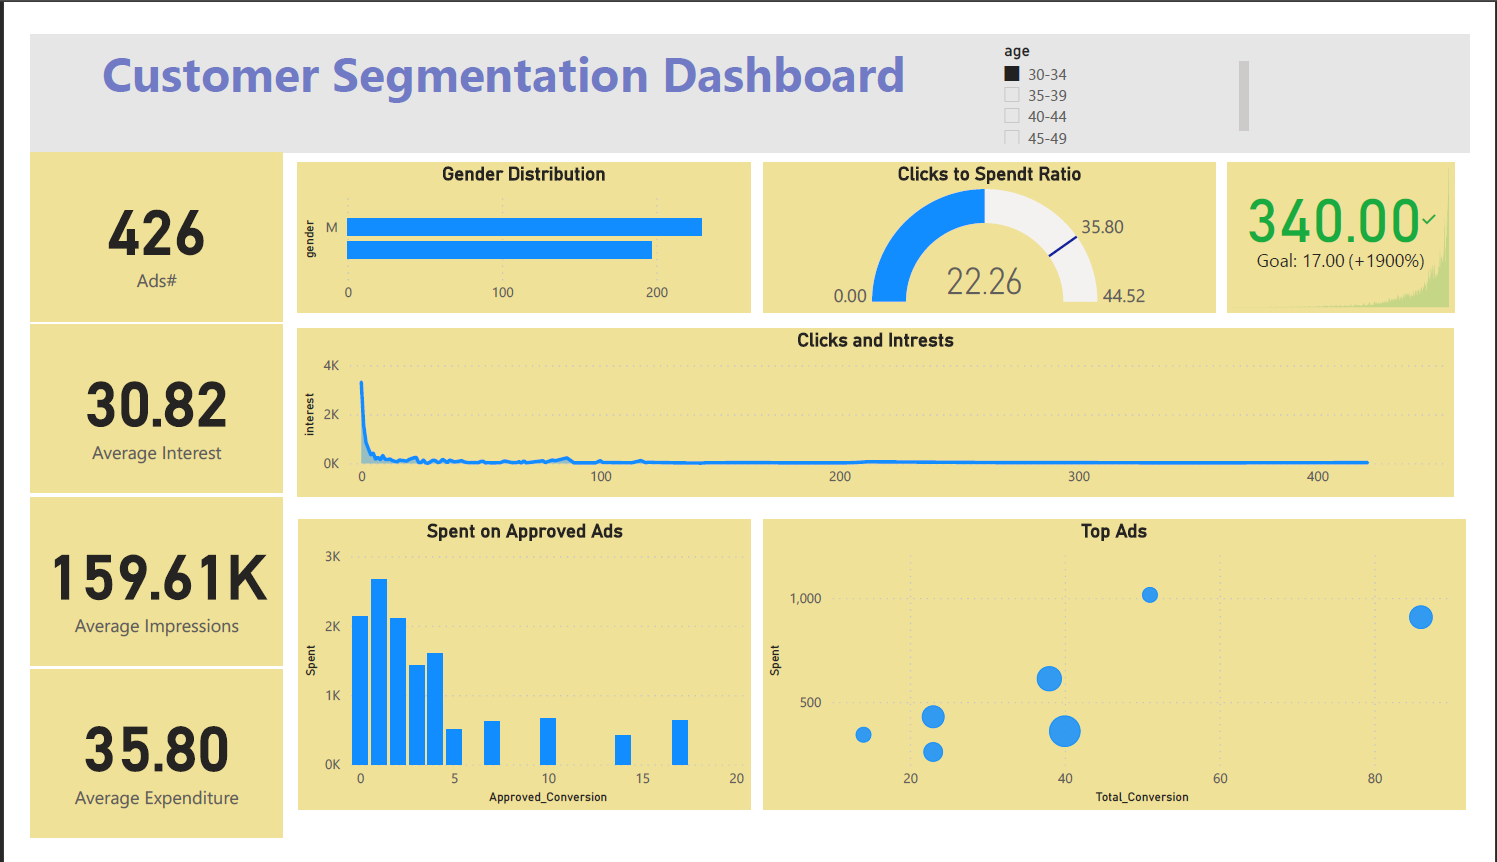

This screenshot's page, from the dashboard's own definition file:
{"tool":"powerbi","page":{"name":"Page 1","canvas":[1280,720],"ordinal":0},"visuals":[{"type":"textbox","box":[0,4.9,1279.9,105.1],"z":0},{"type":"slicer","fields":{"Values":["KAG_conversion_data.age"]},"box":[853.2,6.1,234.7,101.5],"z":1},{"type":"card","fields":{"Values":["CountNonNull(KAG_conversion_data.fb_campaign_id)"]},"box":[0,110,223.7,150.4],"z":2},{"type":"card","fields":{"Values":["Avg(KAG_conversion_data.interest)"]},"box":[0,263.2,223.7,150.4],"z":3},{"type":"card","fields":{"Values":["Avg(KAG_conversion_data.Impressions)"]},"box":[0,416.4,223.7,150.4],"z":4},{"type":"card","fields":{"Values":["Avg(KAG_conversion_data.Spent)"]},"box":[0,569.6,223.7,150.4],"z":5},{"type":"barChart","title":"Gender Distribution","fields":{"Y":["CountNonNull(KAG_conversion_data.age)"],"Category":["KAG_conversion_data.gender"]},"box":[237.1,118.6,403.4,134.5],"z":6},{"type":"gauge","title":"Clicks to Spendt Ratio","fields":{"Y":["Avg(KAG_conversion_data.Clicks)"],"TargetValue":["Avg(KAG_conversion_data.Spent)"]},"box":[651.5,118.6,403.4,134.5],"z":7},{"type":"kpi","fields":{"Goal":["Avg(KAG_conversion_data.Approved_Conversion)"],"Indicator":["Avg(KAG_conversion_data.Clicks)"],"TrendLine":["KAG_conversion_data.Impressions"]},"box":[1064.7,118.6,201.7,134.5],"z":8},{"type":"areaChart","title":"Clicks and Intrests","fields":{"Y":["Sum(KAG_conversion_data.interest)"],"Category":["KAG_conversion_data.Clicks"]},"box":[237.1,266.5,1029.3,150.4],"z":10},{"type":"clusteredColumnChart","title":"Spent on Approved Ads","fields":{"Category":["KAG_conversion_data.Approved_Conversion"],"Y":["Sum(KAG_conversion_data.Spent)"]},"box":[239,436.7,402.4,258.2],"z":12},{"type":"scatterChart","title":"Top Ads","fields":{"X":["Sum(KAG_conversion_data.Total_Conversion)"],"Y":["Sum(KAG_conversion_data.Spent)"],"Category":["KAG_conversion_data.interest"],"Size":["Avg(KAG_conversion_data.Approved_Conversion)"]},"box":[651,436.7,624.9,258.2],"z":13}]}

Visuals, with their boxes in screenshot pixels (x1, y1, x2, y2), scaled from the page's 1280x720 canvas onto the 1497x862 screenshot:
textbox: <region>0, 6, 1496, 132</region>
slicer - KAG_conversion_data.age: <region>998, 7, 1272, 129</region>
card - CountNonNull(KAG_conversion_data.fb_campaign_id): <region>0, 132, 262, 312</region>
card - Avg(KAG_conversion_data.interest): <region>0, 315, 262, 495</region>
card - Avg(KAG_conversion_data.Impressions): <region>0, 499, 262, 679</region>
card - Avg(KAG_conversion_data.Spent): <region>0, 682, 262, 861</region>
"Gender Distribution" barChart: <region>277, 142, 749, 303</region>
"Clicks to Spendt Ratio" gauge: <region>762, 142, 1234, 303</region>
kpi - Avg(KAG_conversion_data.Approved_Conversion) x Avg(KAG_conversion_data.Clicks): <region>1245, 142, 1481, 303</region>
"Clicks and Intrests" areaChart: <region>277, 319, 1481, 499</region>
"Spent on Approved Ads" clusteredColumnChart: <region>280, 523, 750, 832</region>
"Top Ads" scatterChart: <region>761, 523, 1492, 832</region>
